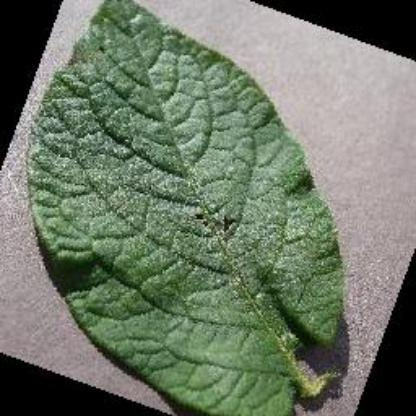Healthy-plant: (28, 0, 346, 416)
